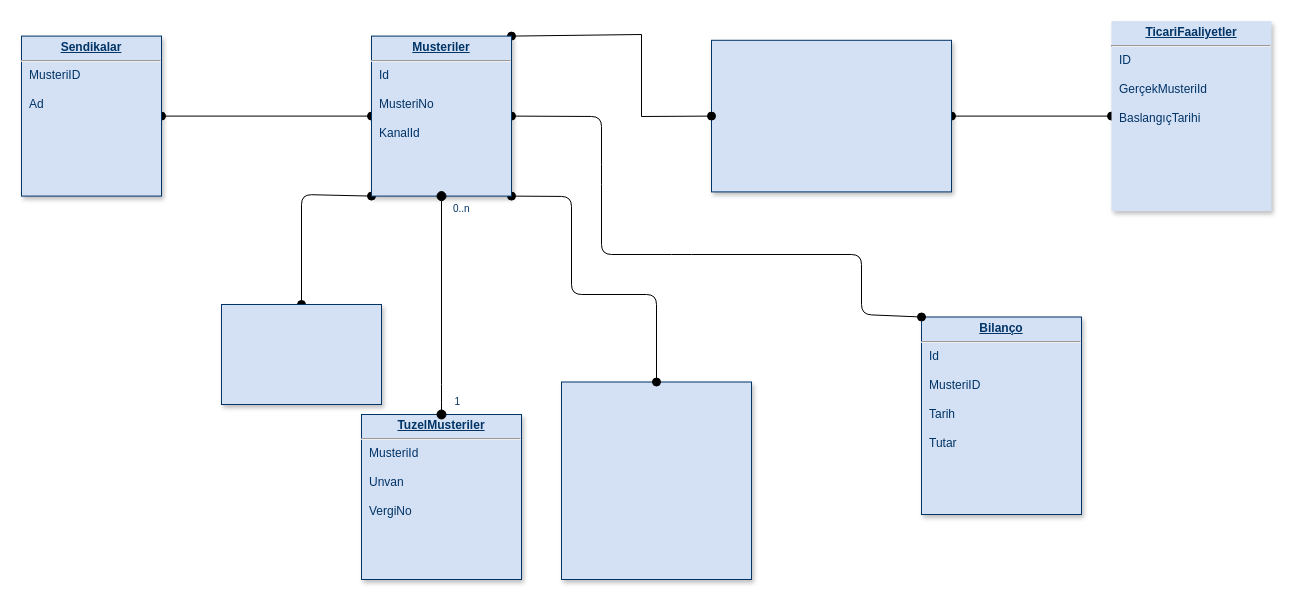
This 1295x604 diagram has some shape labels left out. The shapes that lost their labels are listed below. From the top down, each one's centre as x and y in pixels, then its label:
At [832,117]: "GerçekMusteriler MusteriId Ad Soyad TcKimlikNo".
At [302,356]: "Kanal Id Ad".
At [657,481]: "Adresler Id MusteriId AdresDetay".
